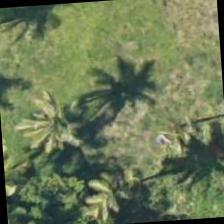Kelapa_Sawit: (12, 74, 108, 170), (53, 149, 150, 223)
